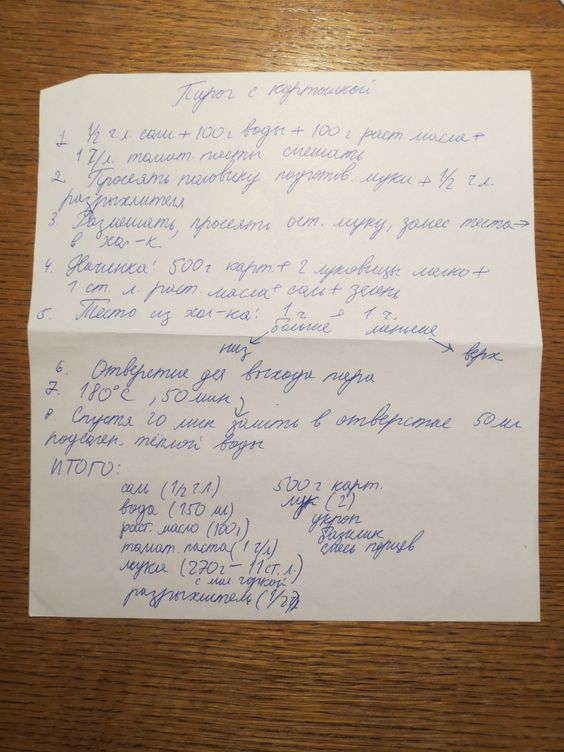page: (33, 73, 531, 616)
